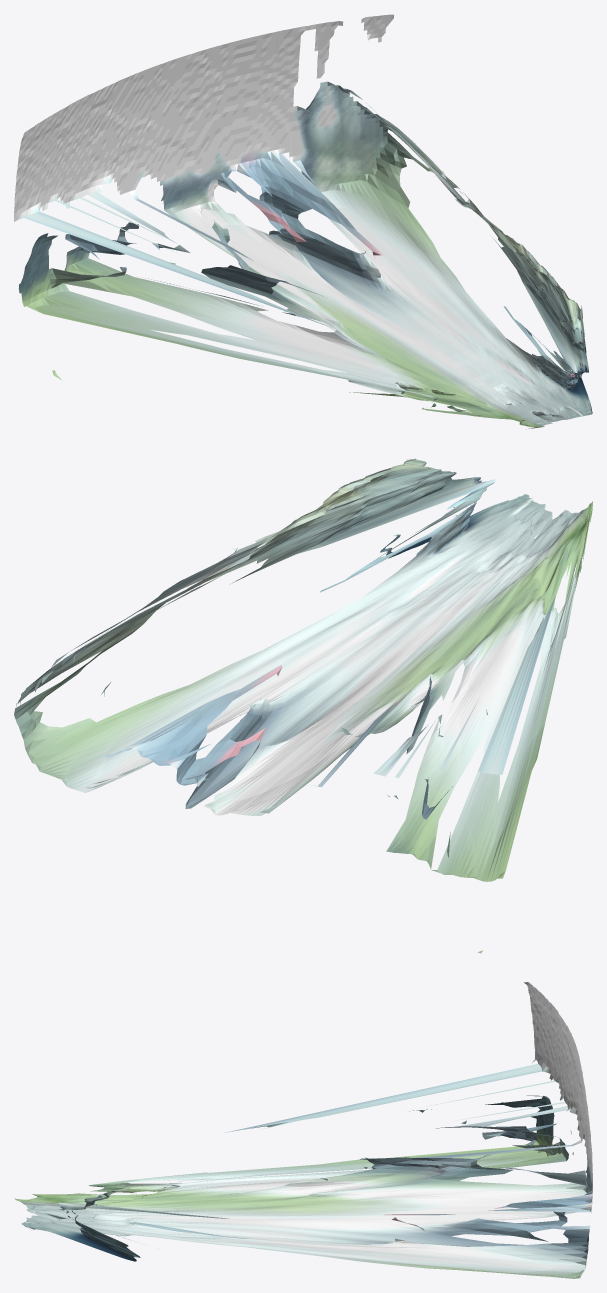
3 views of the same model, one above another, from view 1: azimuth 30°, elevation 25°; view 2: azimuth 150°, elevation 25°; view 3: azimuth 270°, elevation 25° (orthographic). The views are drawn at different scales.
Visible parts, largest first — view 1: defaultobject; view 2: defaultobject; view 3: defaultobject.
Part boxes in pixels (x1,y1,x2,y2): defaultobject: [14, 14, 592, 429]; defaultobject: [14, 458, 592, 953]; defaultobject: [14, 982, 592, 1278].
Bounding box in the file's own units: 31.59 × 19.87 × 45.27.
1 material, 1 textured.
